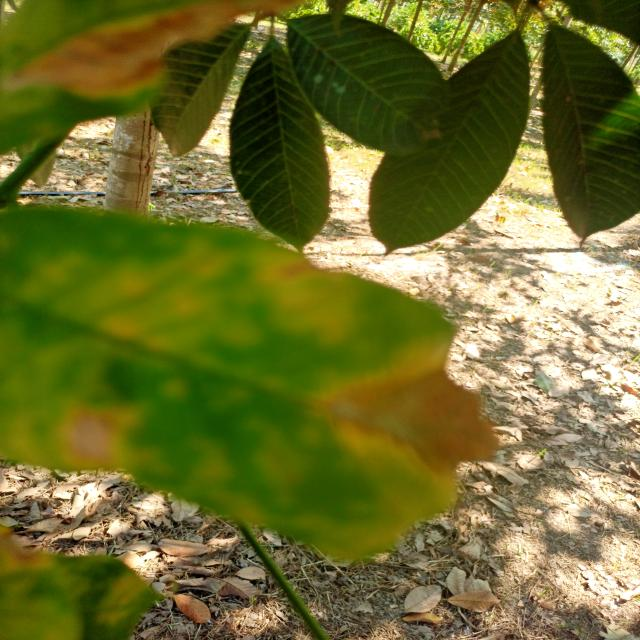Leaf-Blight: (3, 0, 301, 98), (326, 366, 500, 480), (59, 407, 122, 472)
